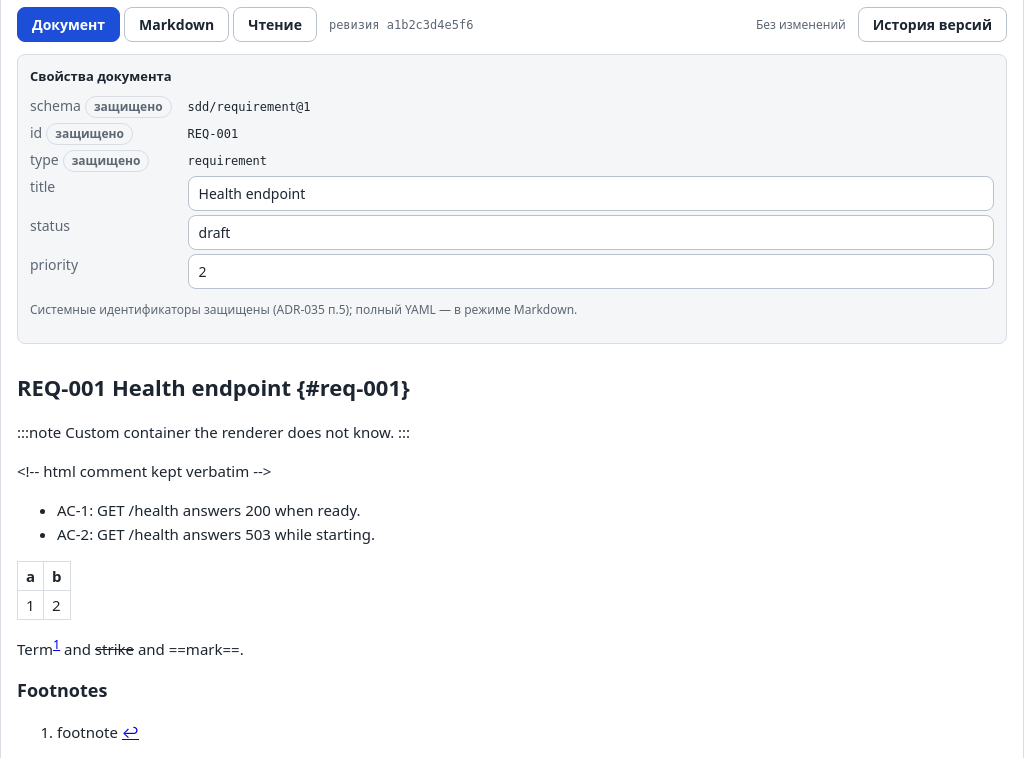
Test: MarkdownEditor (T090, ADR-035) › lists versions and renders the unified diff between two revisions
The image size is (1024, 758).
Click the button with test id "editor-history-toggle": (932, 24) [858,7,1007,42]
(page scrolled)
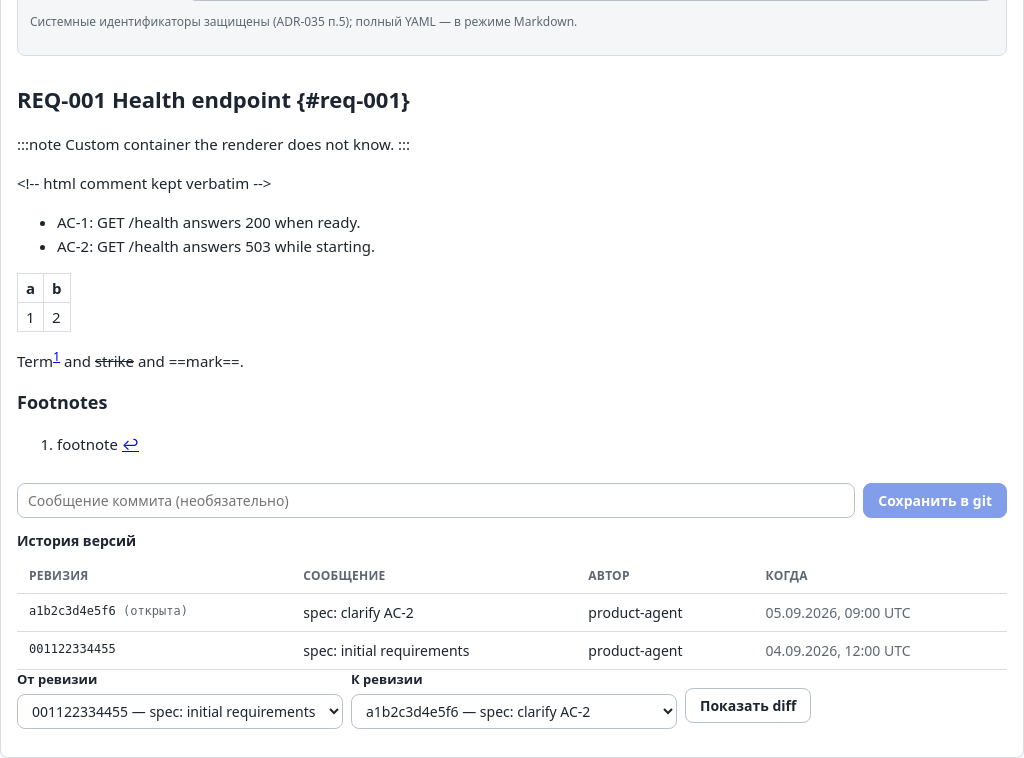
Now the element with test id "editor-history" shows "spec: clarify AC-2", box [303,603,414,622]
Now the element with test id "editor-history" shows "spec: initial requirements", box [303,641,469,660]
Click the button with test id "editor-show-diff": (748, 706) [685,688,811,723]
(page scrolled)
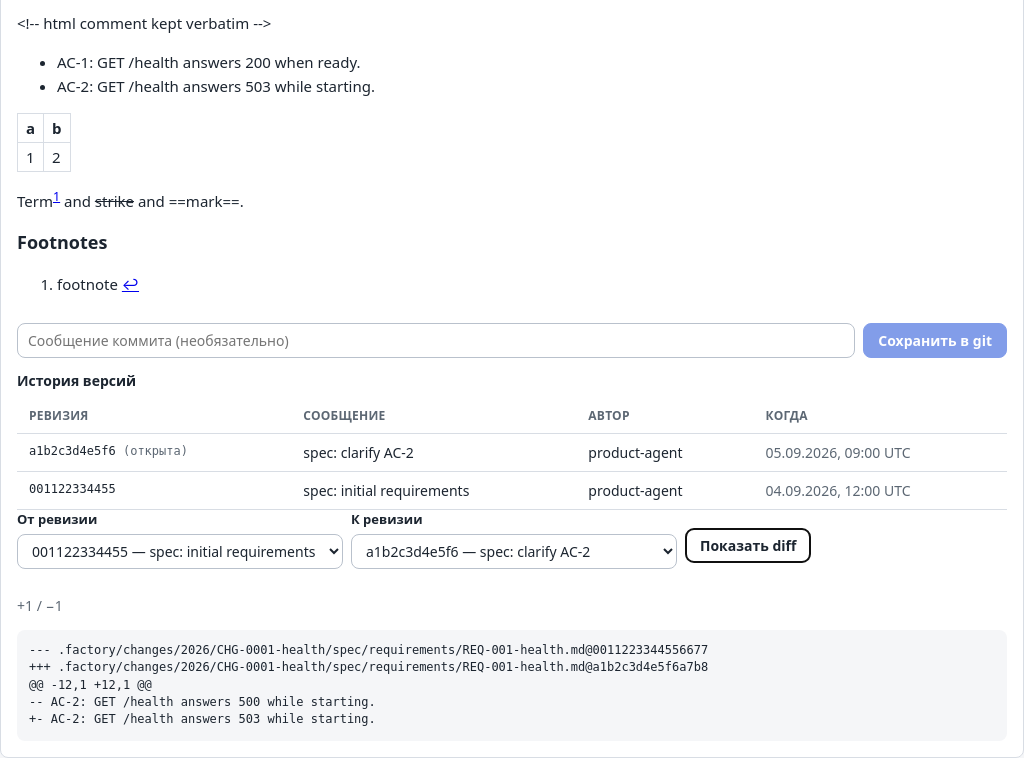
Now the element with test id "editor-diff" shows "+1 / −1", box [17,595,1007,741]
Now the text "-- AC-2: GET /health answers 500" is shown, box [29,643,708,726]
